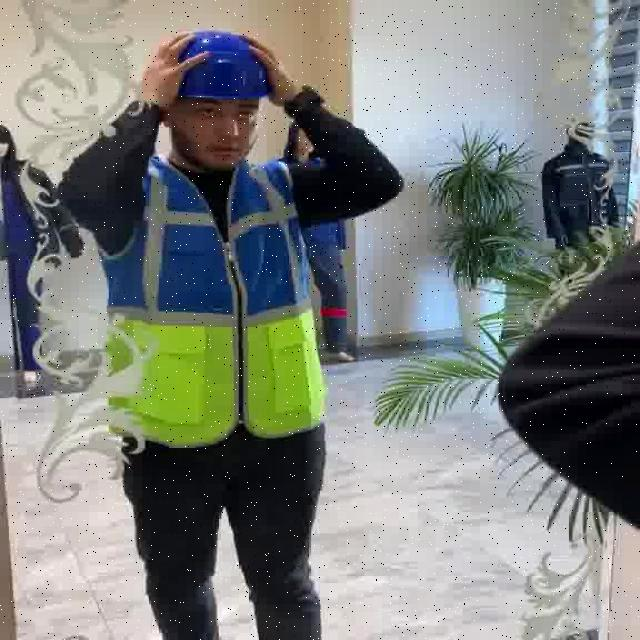Person: (53, 8, 406, 640)
Vest: (113, 134, 330, 448)
